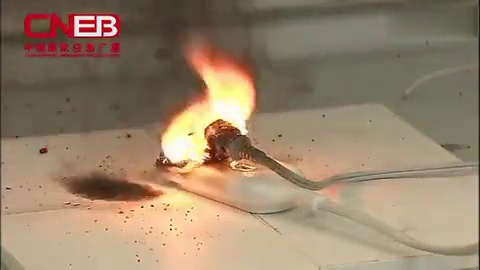fire: (149, 37, 261, 170)
